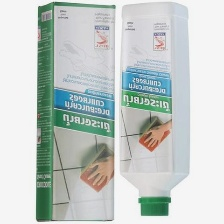book: (31, 0, 120, 223)
cleaning_solution: (116, 0, 192, 218)
